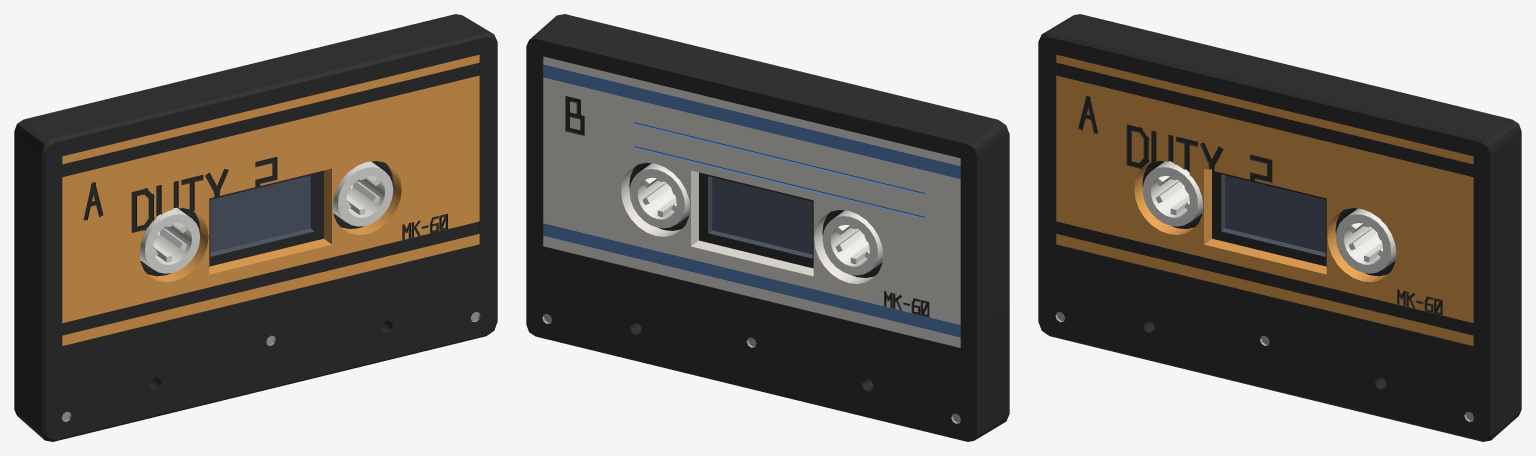
The model's file is tape_duty.glb.
3 views of the same model, side by side, from view 1: azimuth 30°, elevation 25°; view 2: azimuth 150°, elevation 25°; view 3: azimuth 330°, elevation 25° (orthographic).
Parts seen in each view (by area): view 1: shell, label_a, hub_l, hub_r; view 2: shell, label_b, hub_l, hub_r; view 3: shell, label_a, hub_l, hub_r.
Boxes of the visible parts, bbox=[...] form: shell: bbox=[14, 14, 497, 441]; label_a: bbox=[62, 54, 479, 345]; hub_l: bbox=[139, 208, 200, 273]; hub_r: bbox=[332, 161, 393, 226]; shell: bbox=[526, 14, 1009, 441]; label_b: bbox=[543, 56, 960, 347]; hub_l: bbox=[822, 210, 883, 275]; hub_r: bbox=[629, 163, 689, 228]; shell: bbox=[1038, 14, 1521, 441]; label_a: bbox=[1056, 54, 1473, 345]; hub_l: bbox=[1142, 161, 1203, 226]; hub_r: bbox=[1335, 208, 1396, 273].
Bounding box in the file's own units: 0.1004 × 0.0638 × 0.012.
